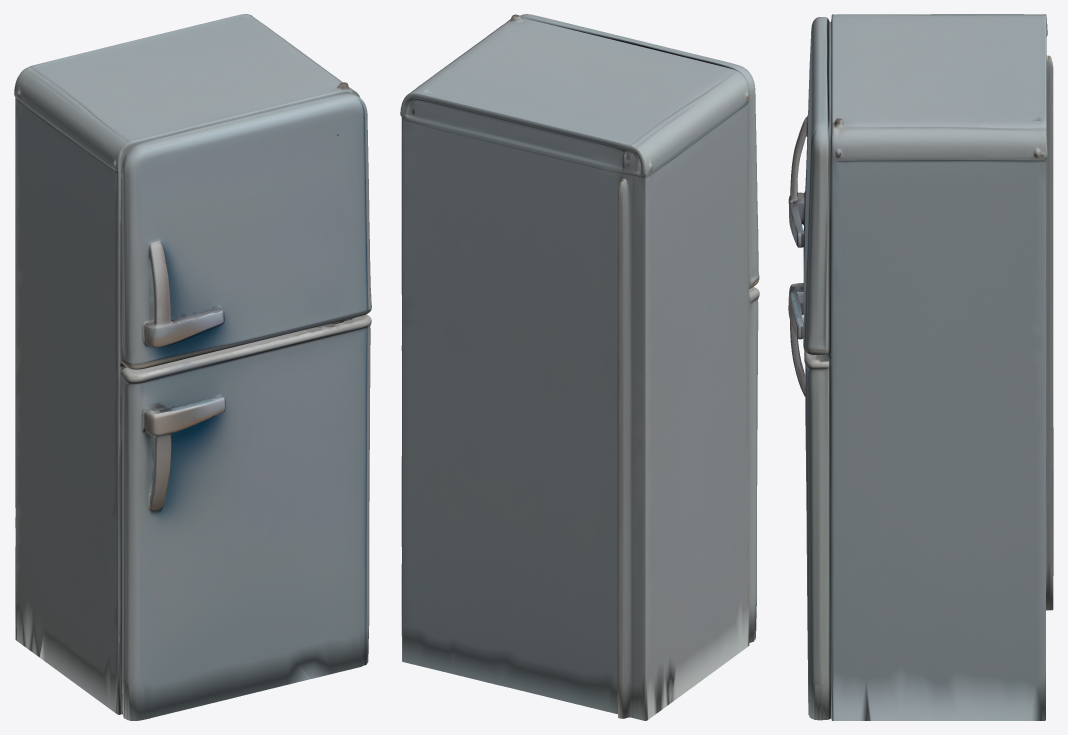
File: fridge.glb
3 views of the same model, side by side, from view 1: azimuth 30°, elevation 25°; view 2: azimuth 150°, elevation 25°; view 3: azimuth 270°, elevation 25° (orthographic). The views are drawn at different scales.
Parts seen in each view (by area): view 1: patrick-reference-fridge; view 2: patrick-reference-fridge; view 3: patrick-reference-fridge.
Boxes of the visible parts, x1,y1,x2,y2 form: patrick-reference-fridge: (14, 14, 371, 720); patrick-reference-fridge: (400, 14, 759, 720); patrick-reference-fridge: (788, 14, 1053, 720).
Bounding box in the file's own units: 0.76 × 1.68 × 0.68.
Materials: 1 (1 with a texture image).
